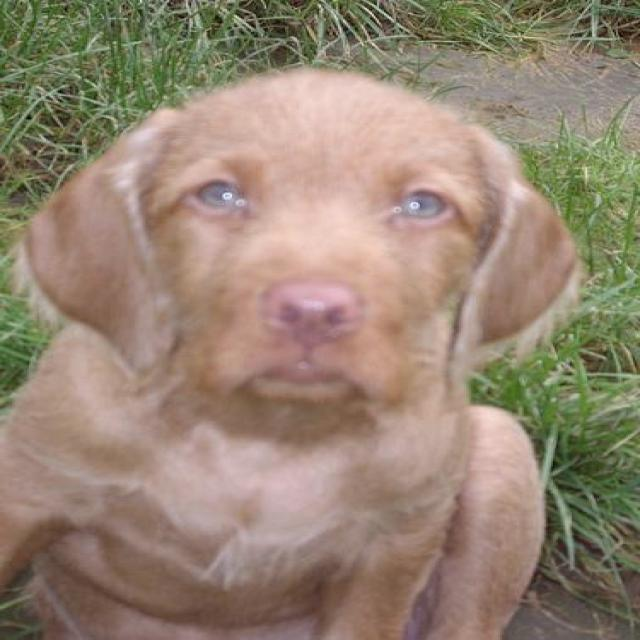vizsla: (7, 67, 587, 638)
